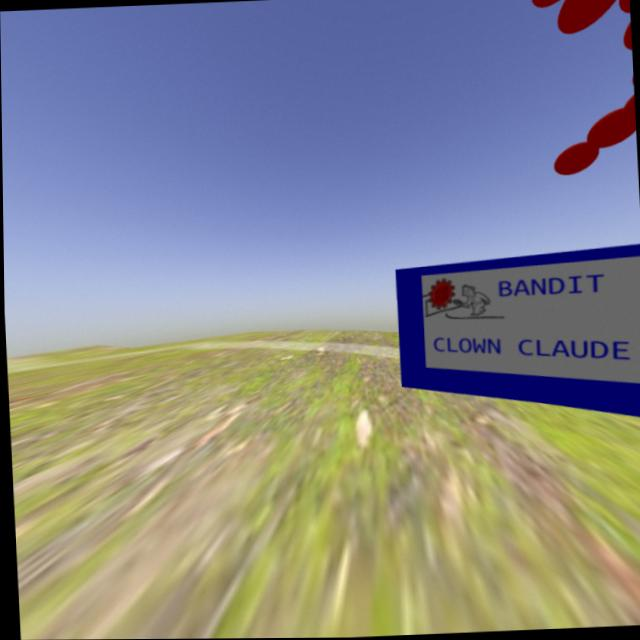clueboard: (387, 237, 640, 432)
